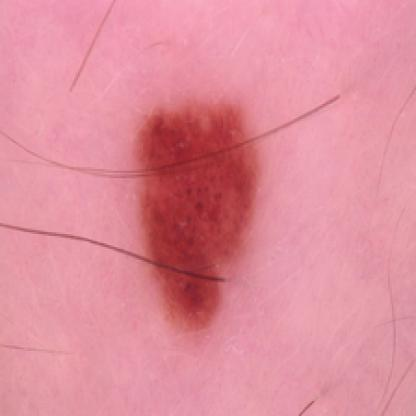benign: (130, 98, 277, 332)
